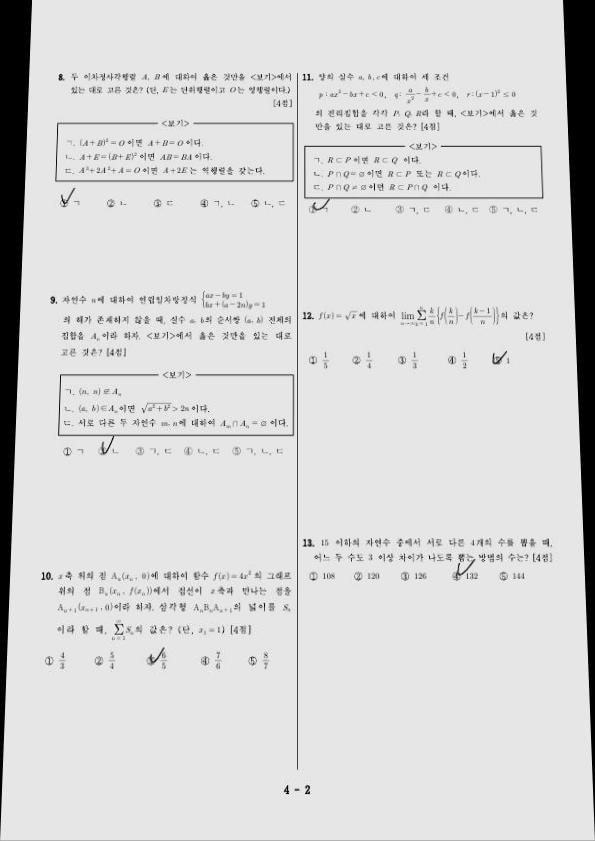question: (41, 285, 297, 467), (296, 65, 551, 224), (45, 68, 300, 217), (30, 562, 297, 678), (298, 300, 554, 384), (299, 529, 560, 597)
